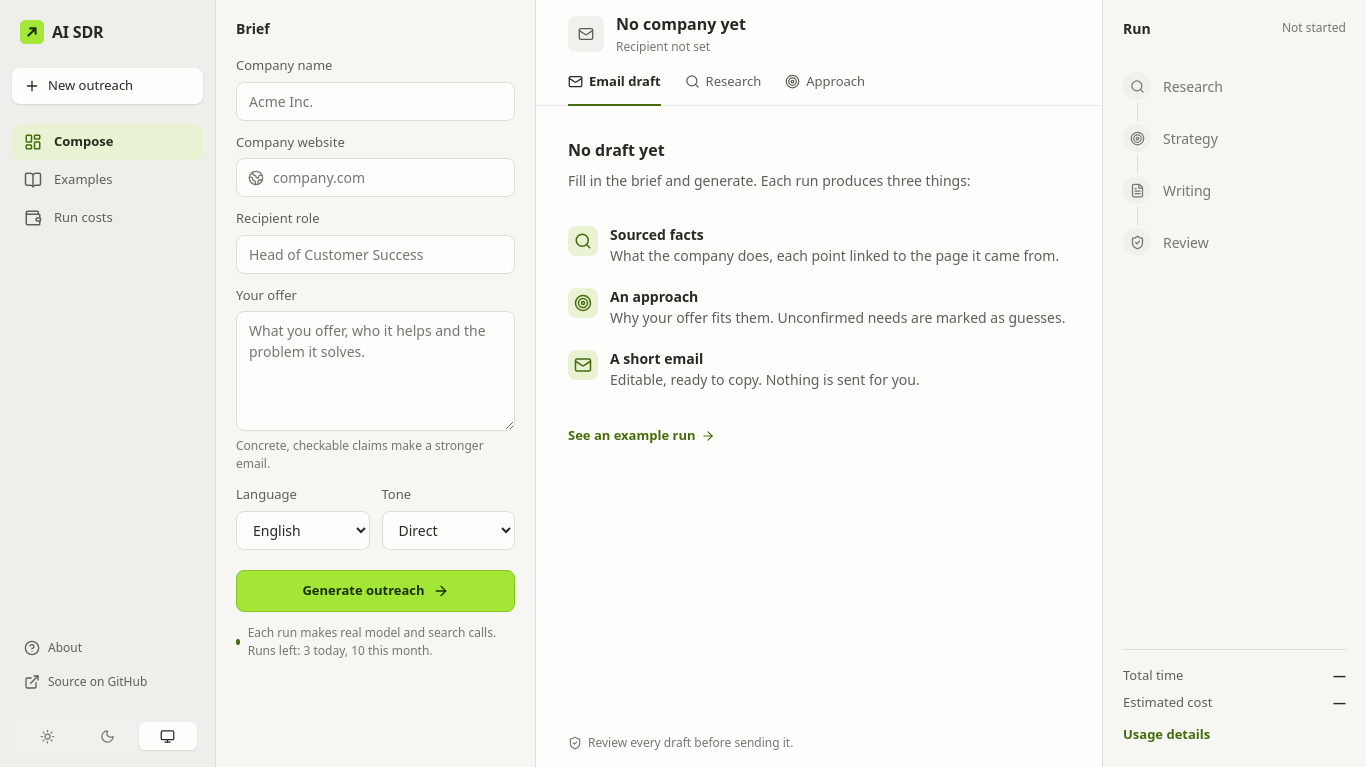
Scenario: live run › stops the service when the budget runs out during a run
In the field labelled "Company name": (376, 101) [236,82,515,120], type "Acme"
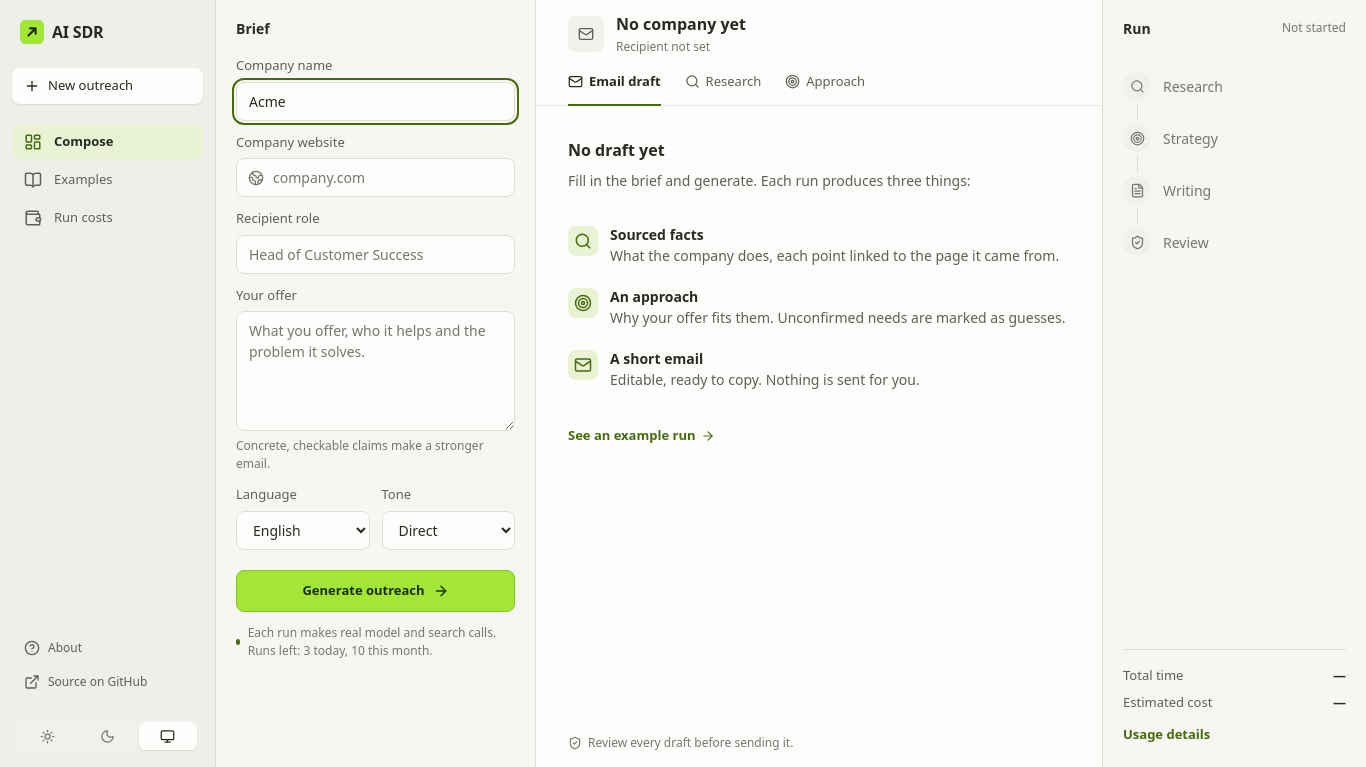
In the field labelled "Company website": (376, 178) [236,158,515,197], type "acme.com"
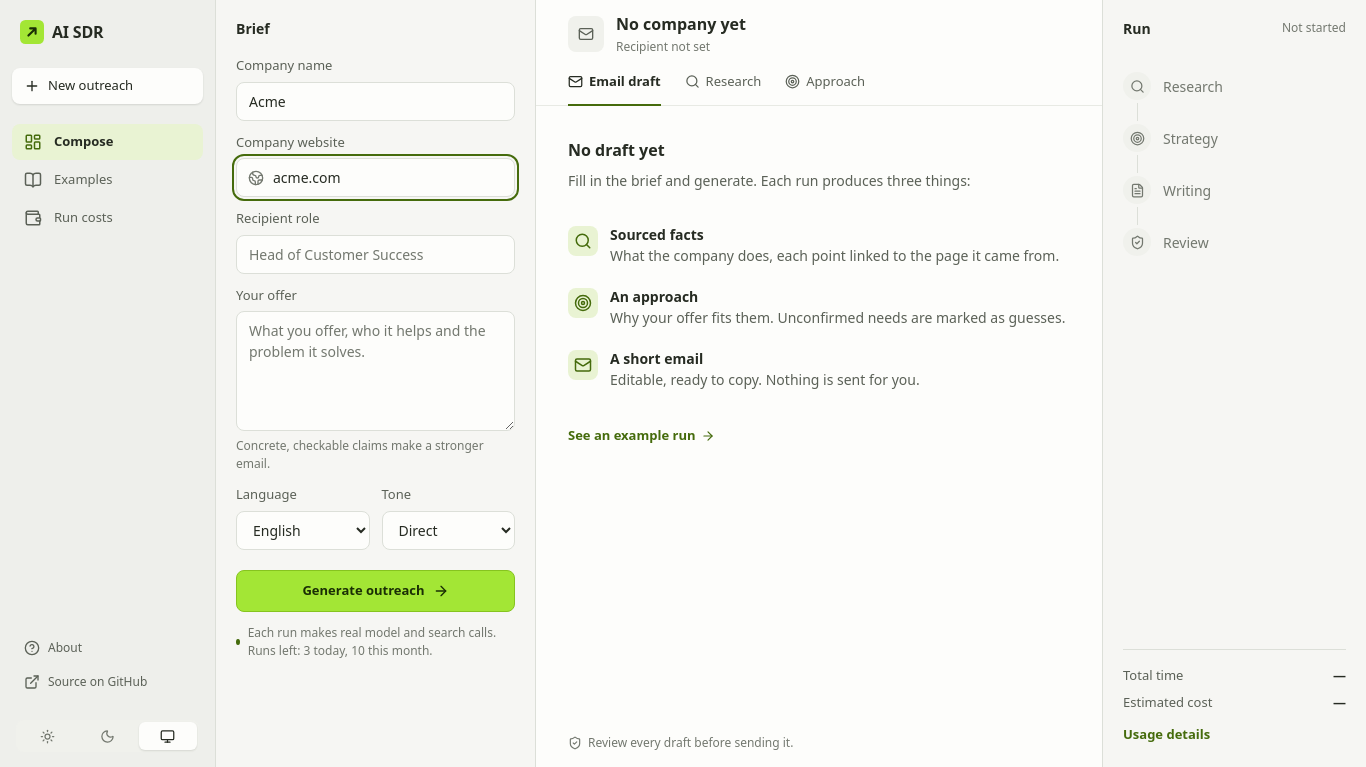
In the field labelled "Recipient role": (376, 254) [236,234,515,274], type "VP of Engineering"
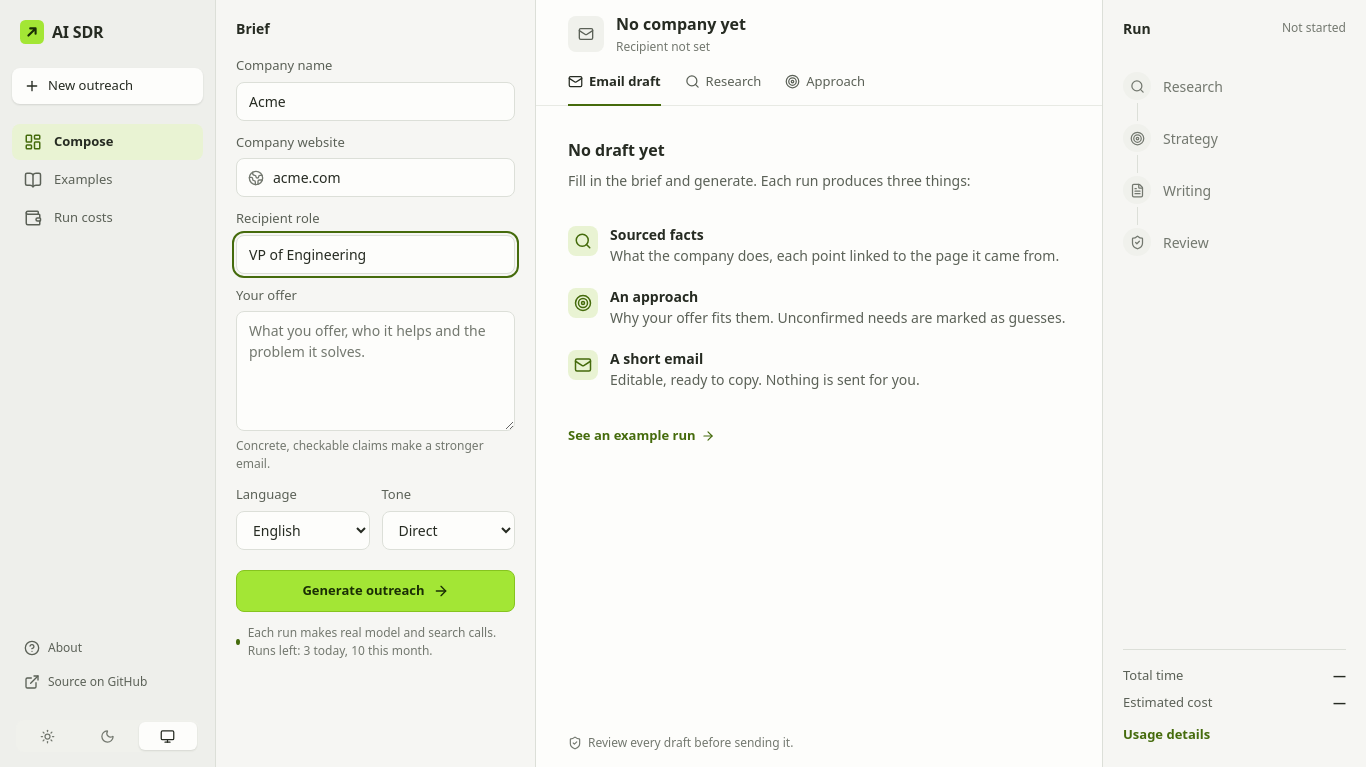
In the text box labelled "Your offer": (376, 371) [236,311,515,431], type "Contract data engineers"
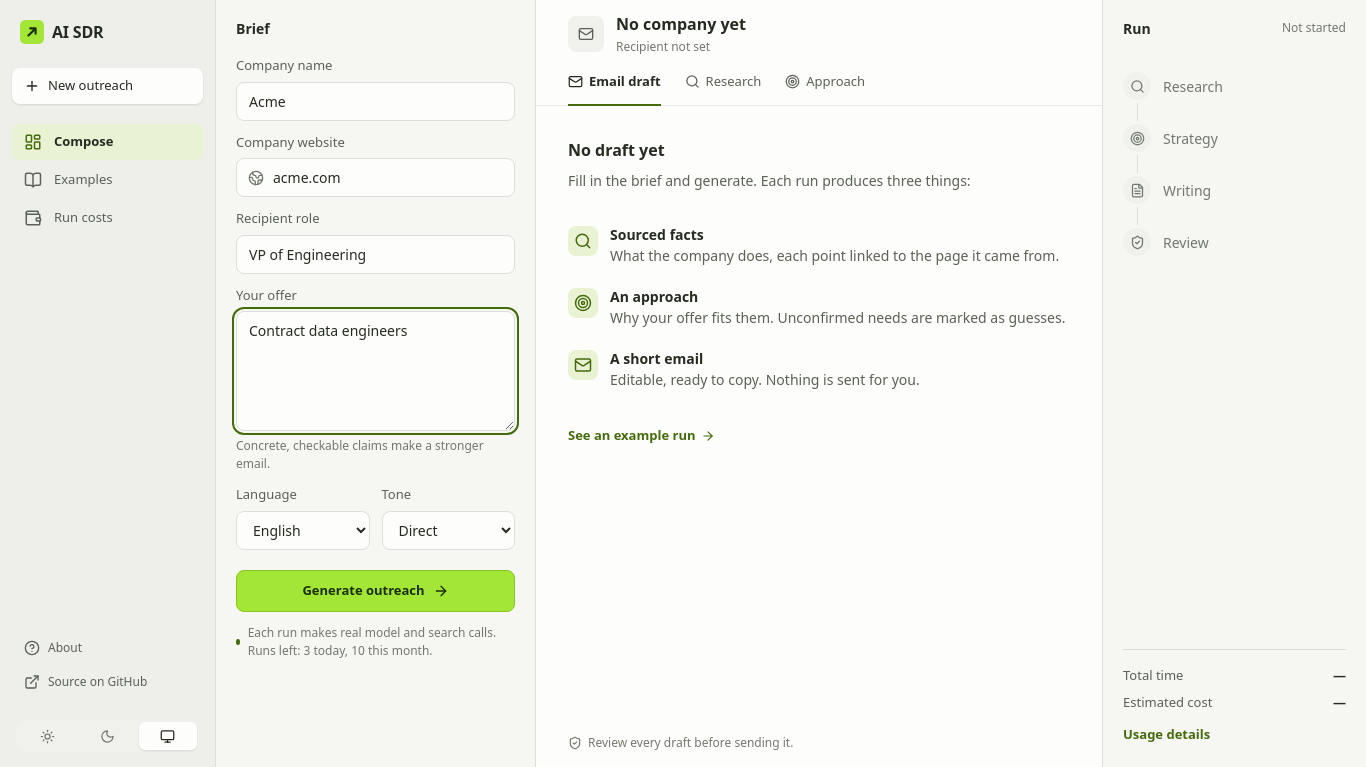
Click the button "Generate outreach": click(376, 590) [236,570,515,612]
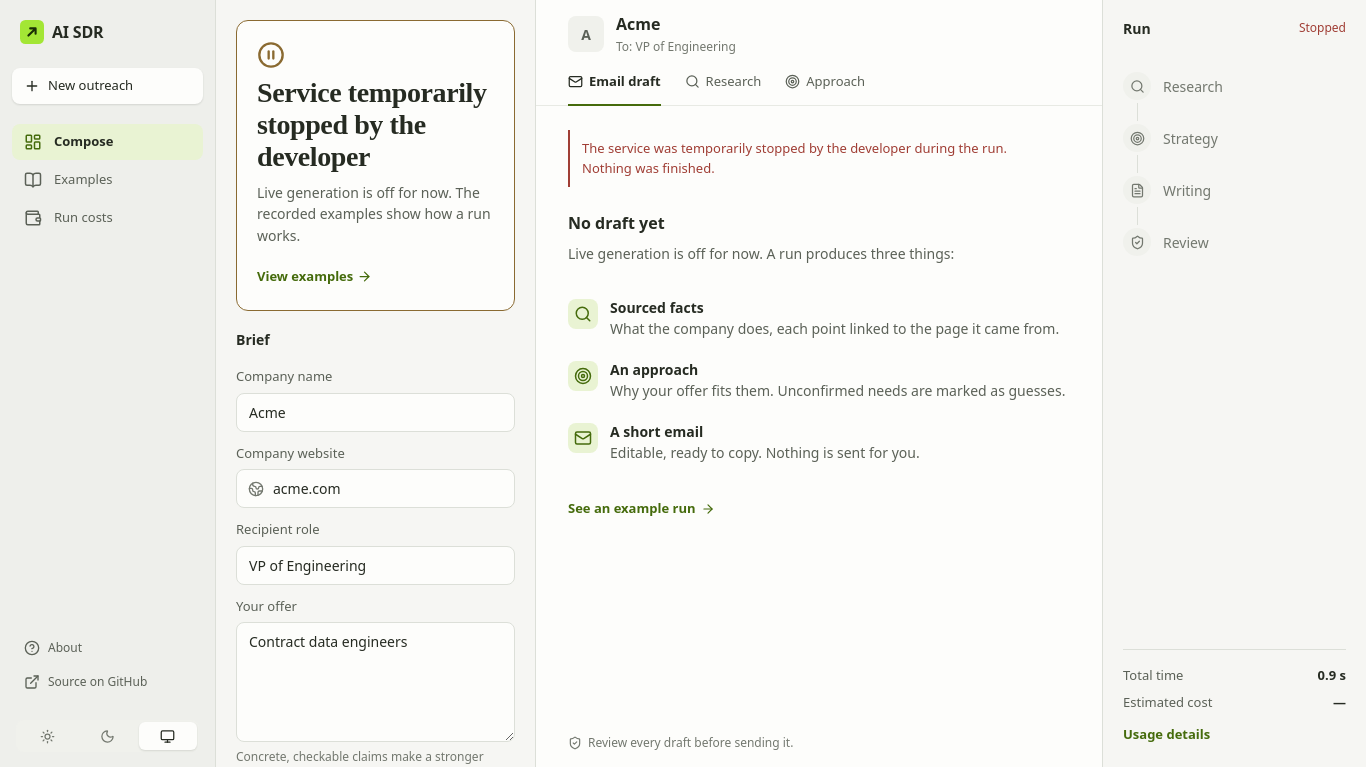
Now the text "Stopped" is shown, box [1299,19,1346,37]
Now the heading "Service temporarily stopped by the developer" is shown, box [257,77,494,174]
